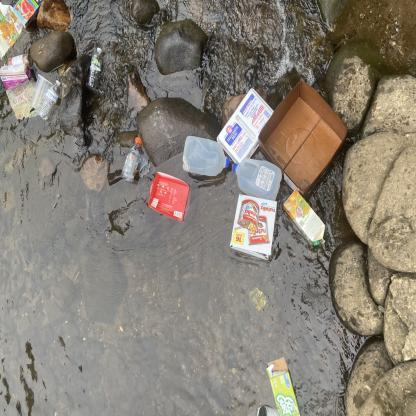trash: (256, 74, 352, 204), (214, 86, 281, 171), (226, 191, 282, 266), (281, 186, 330, 252), (230, 154, 287, 209), (263, 350, 306, 416), (0, 62, 44, 121), (146, 169, 193, 224), (180, 132, 231, 180), (0, 0, 29, 61), (37, 76, 64, 124), (30, 67, 56, 116), (120, 134, 145, 184), (12, 0, 46, 31), (86, 45, 107, 94), (0, 48, 32, 72), (248, 285, 270, 314), (132, 154, 152, 180), (253, 399, 282, 416)
